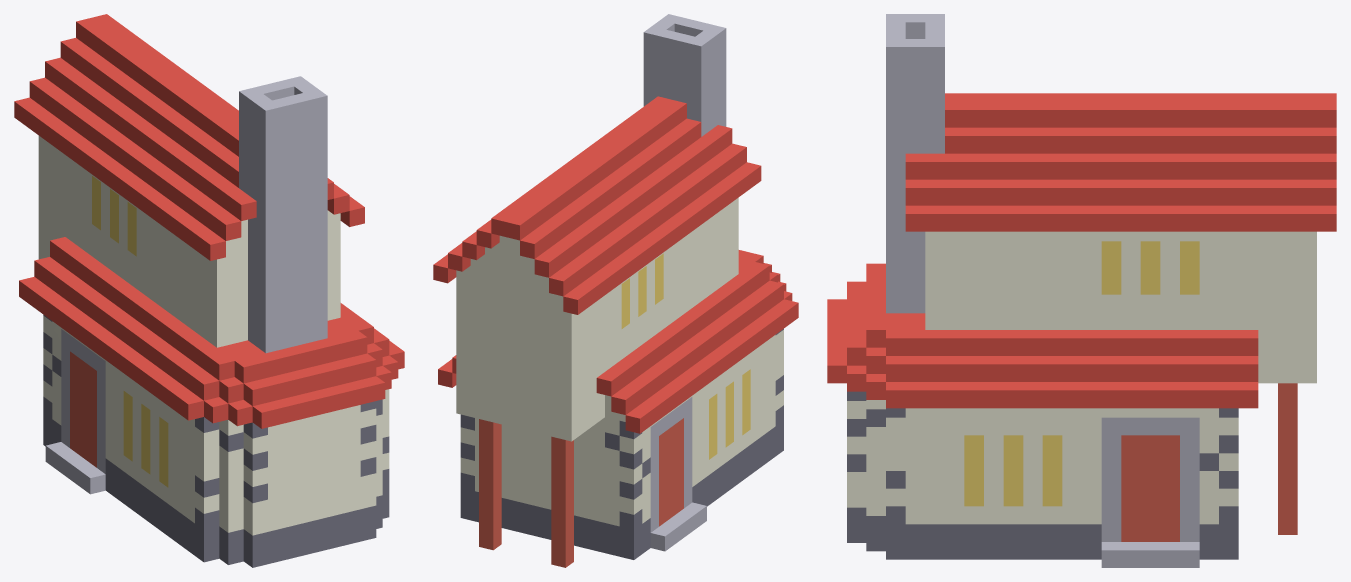
Rendered from Casa4.glb.
3 views of the same model, side by side, from view 1: azimuth 30°, elevation 25°; view 2: azimuth 150°, elevation 25°; view 3: azimuth 270°, elevation 25° (orthographic). The views are drawn at different scales.
Visible parts, largest first — view 1: Build- 9; view 2: Build- 9; view 3: Build- 9.
Part boxes in pixels (box(x1,y1,x2,y2)): Build- 9: box(14, 14, 404, 567); Build- 9: box(433, 14, 798, 567); Build- 9: box(827, 14, 1336, 567).
Size of the model in its own units: 1.4 by 2.7 by 2.6.
Materials: 1 (1 with a texture image).
